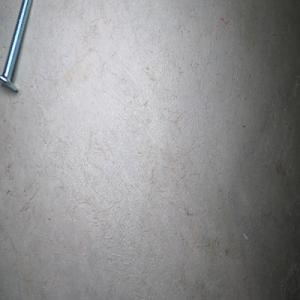Bolt: (0, 0, 33, 92)
